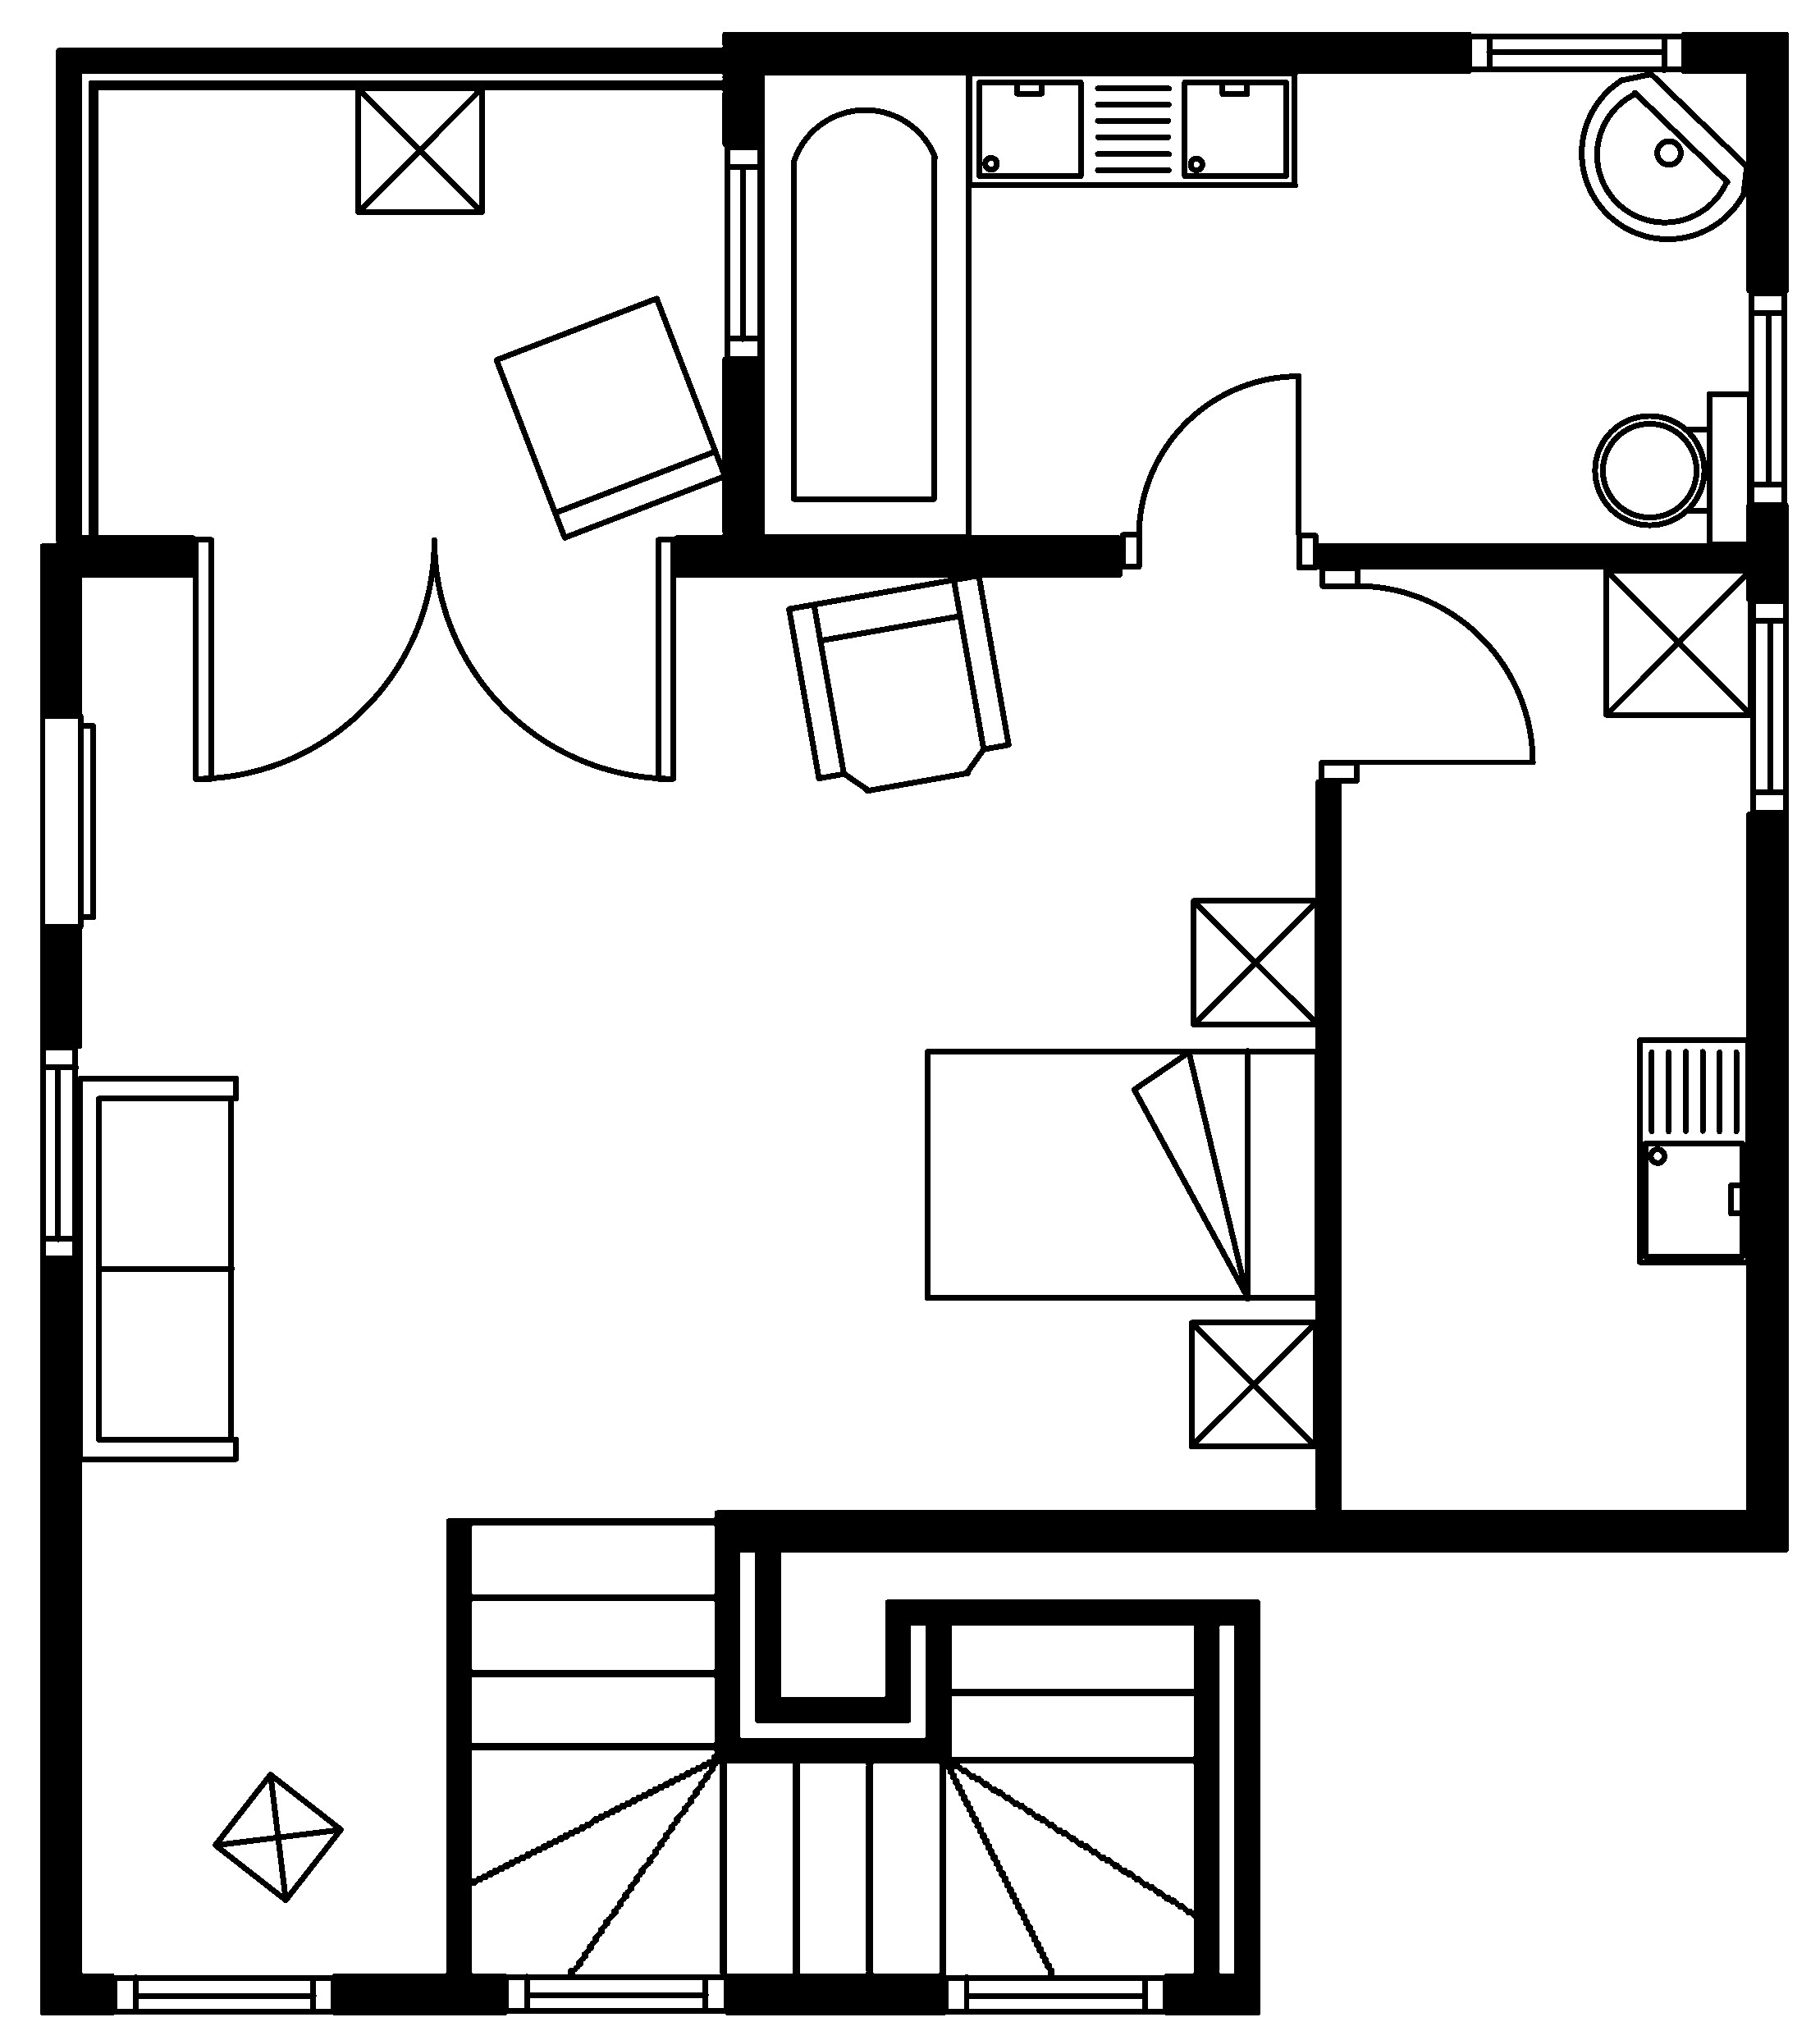armchair: (785, 571, 1012, 794)
bed: (922, 1047, 1321, 1302)
coffee_table: (1602, 566, 1753, 719), (211, 1769, 344, 1903), (1186, 1318, 1319, 1449), (1189, 896, 1321, 1028), (353, 84, 485, 214)
large_sink: (1592, 388, 1753, 548)
large_sofa: (76, 1073, 239, 1462)
sink: (1636, 1035, 1751, 1265)
small_sink: (1578, 70, 1750, 241)
small_sofa: (492, 293, 727, 541)
tub: (757, 69, 971, 539)
twin_sink: (964, 69, 1298, 188)
